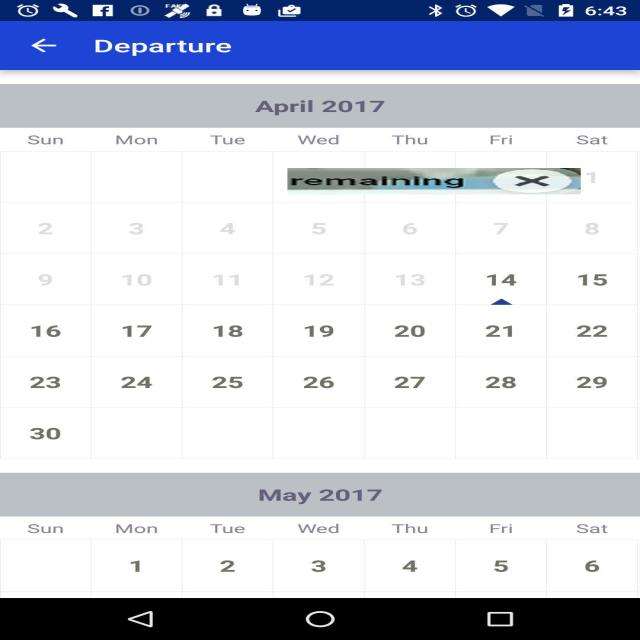misdirection: (287, 168, 581, 194)
